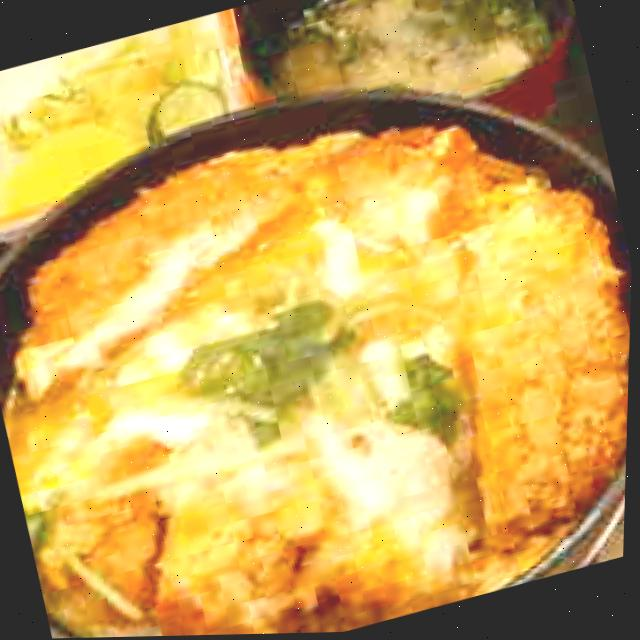汤锅炖物: (222, 0, 595, 179)
